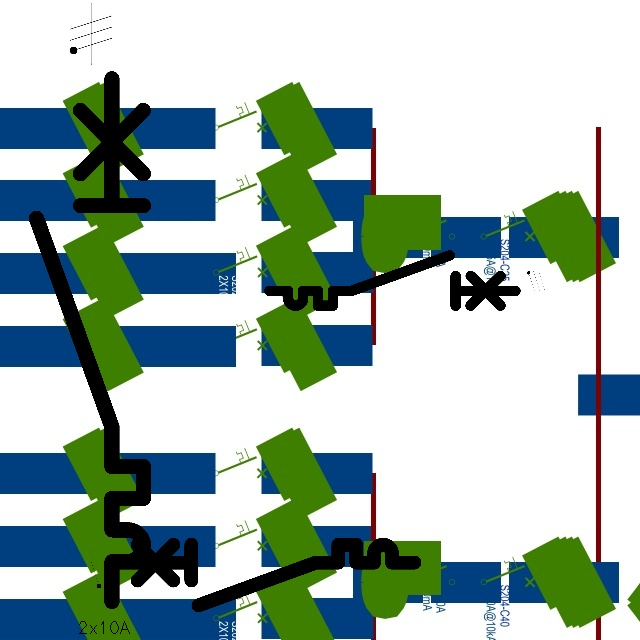interruptor_termomagnetico: (23, 65, 157, 615), (112, 537, 422, 612), (263, 249, 521, 312)
